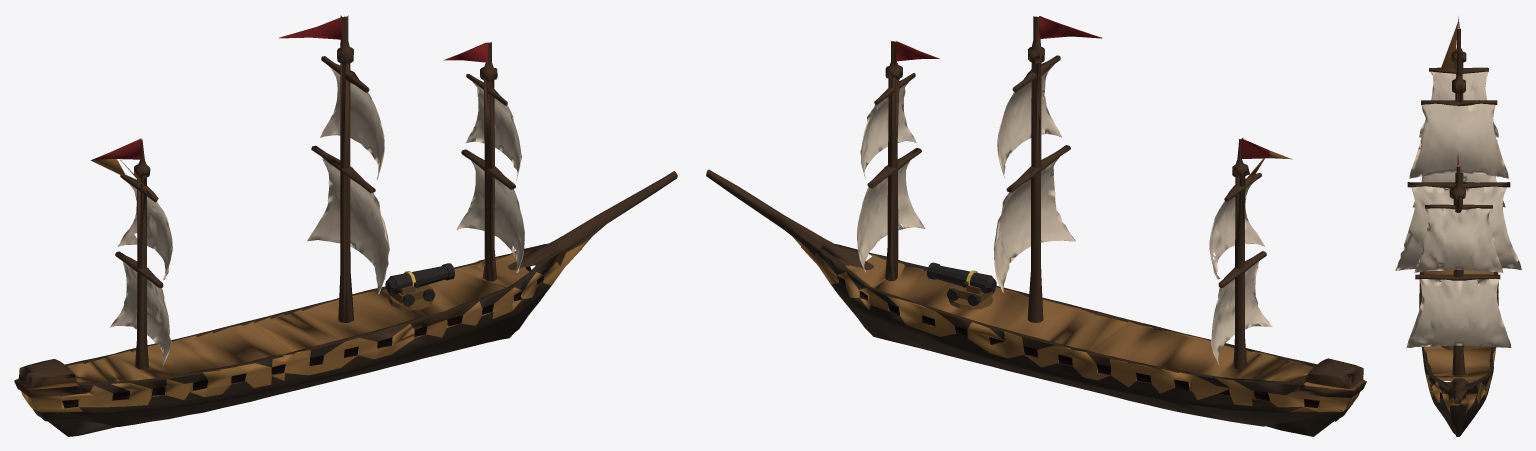
Rendered from frigate.glb.
3 renders of one model, left to right at view 1: azimuth 30°, elevation 25°; view 2: azimuth 150°, elevation 25°; view 3: azimuth 270°, elevation 25°, orthographic. The views are drawn at different scales.
Parts seen in each view (by area): view 1: geometry_0, cannon_barrel; view 2: geometry_0, cannon_barrel, cannon_carriage; view 3: geometry_0.
Boxes of the visible parts, <box> form: geometry_0: <box>14,15,677,436</box>; cannon_barrel: <box>385,263,454,293</box>; geometry_0: <box>706,16,1366,436</box>; cannon_barrel: <box>927,262,996,293</box>; cannon_carriage: <box>946,284,995,306</box>; geometry_0: <box>1395,16,1521,436</box>.
Bounding box in the file's own units: 1.23 × 0.6501 × 0.2356.
